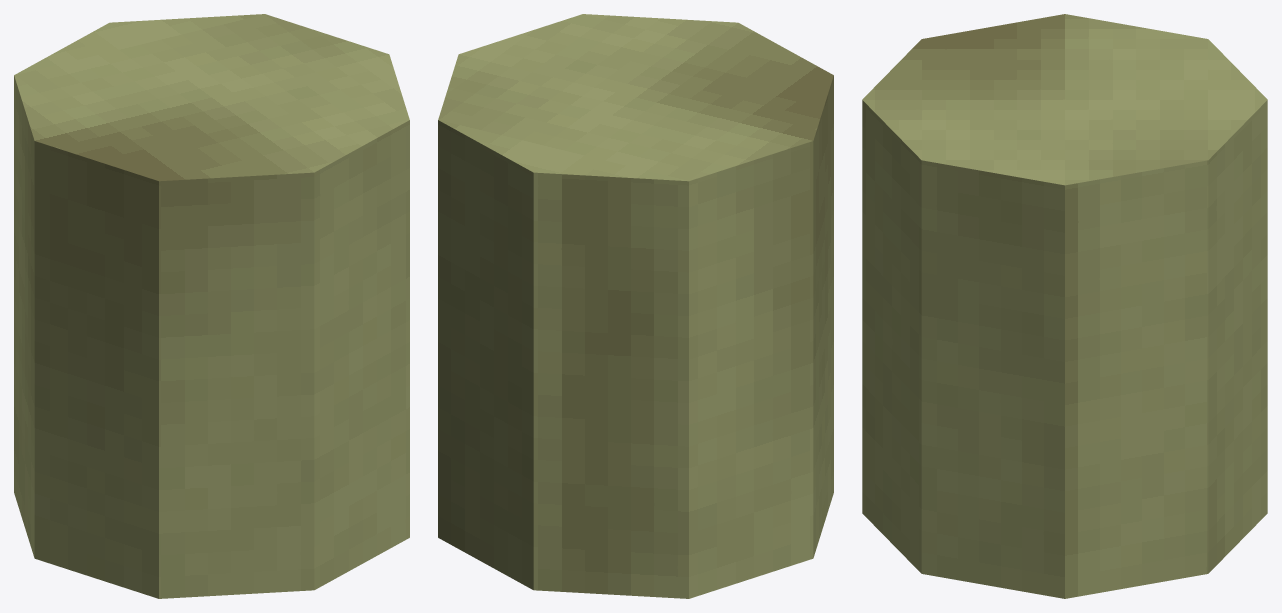
File: Prop_Cup.fbx
3 views of the same model, side by side, from view 1: azimuth 30°, elevation 25°; view 2: azimuth 150°, elevation 25°; view 3: azimuth 270°, elevation 25° (orthographic).
Parts seen in each view (by area): view 1: Prop_Cup; view 2: Prop_Cup; view 3: Prop_Cup.
Boxes of the visible parts, x1=… form: Prop_Cup: x1=14, y1=14, x2=409, y2=598; Prop_Cup: x1=438, y1=14, x2=833, y2=598; Prop_Cup: x1=862, y1=14, x2=1267, y2=598.
Bounding box in the file's own units: 0.08 × 0.09 × 0.08.
1 material, 1 textured.
